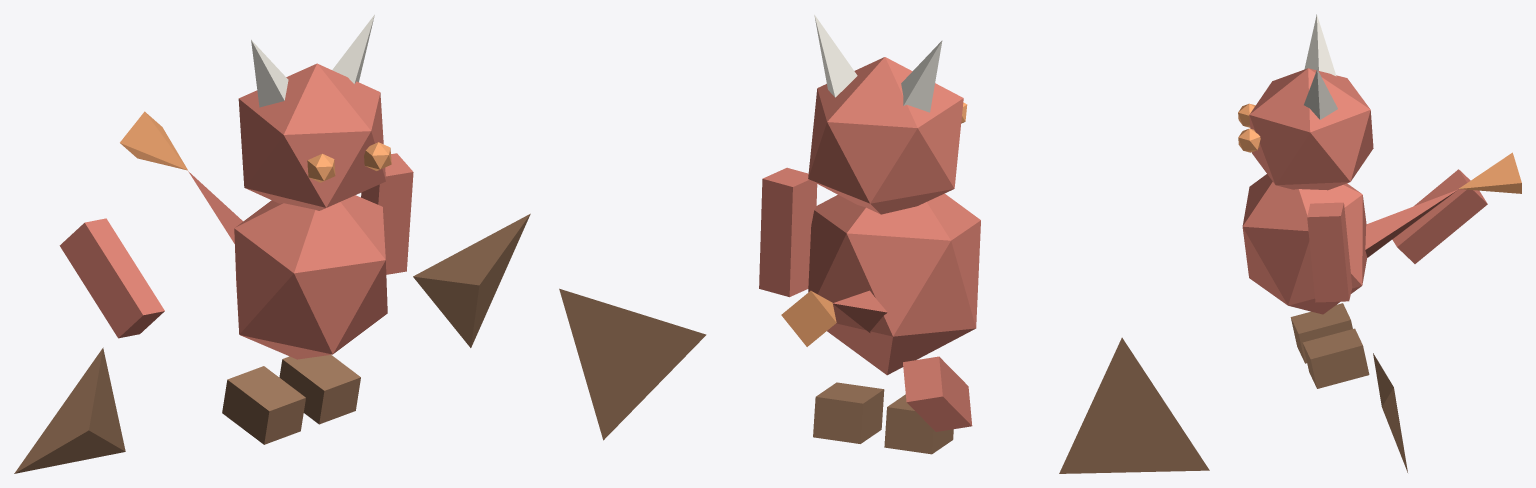
Rendered from npcpose_imp_walk_04.glb.
3 renders of one model, left to right at view 1: azimuth 30°, elevation 25°; view 2: azimuth 150°, elevation 25°; view 3: azimuth 270°, elevation 25°, orthographic. The views are drawn at different scales.
Visible parts, largest first — view 1: npcpose; view 2: npcpose; view 3: npcpose.
Part boxes in pixels (left/top/right/bottom): npcpose: left=14, top=14, right=530, bottom=473; npcpose: left=559, top=14, right=1209, bottom=473; npcpose: left=1238, top=14, right=1521, bottom=472.
Bounding box in the file's own units: 1.63 × 1.13 × 0.8346.
